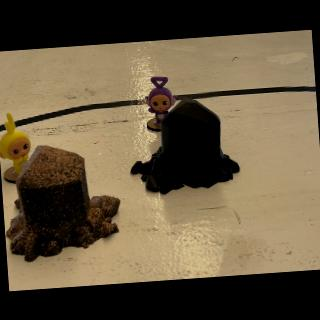teletubby: (0, 113, 30, 174), (145, 76, 176, 126)
